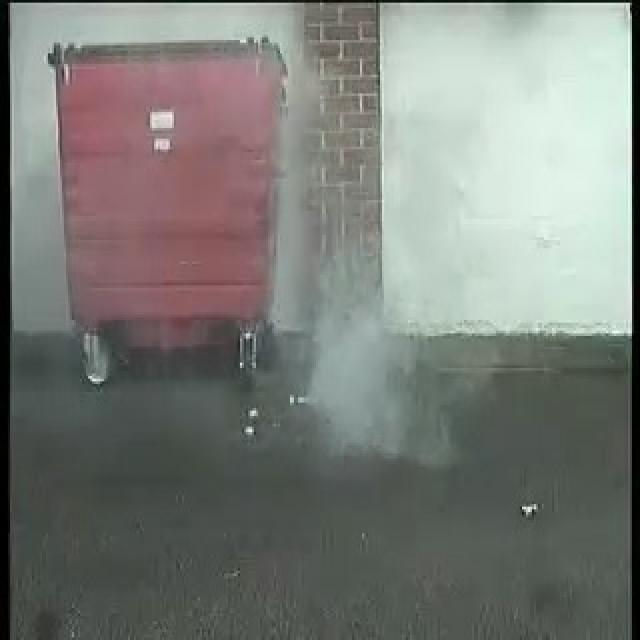smoke: (318, 249, 424, 451)
